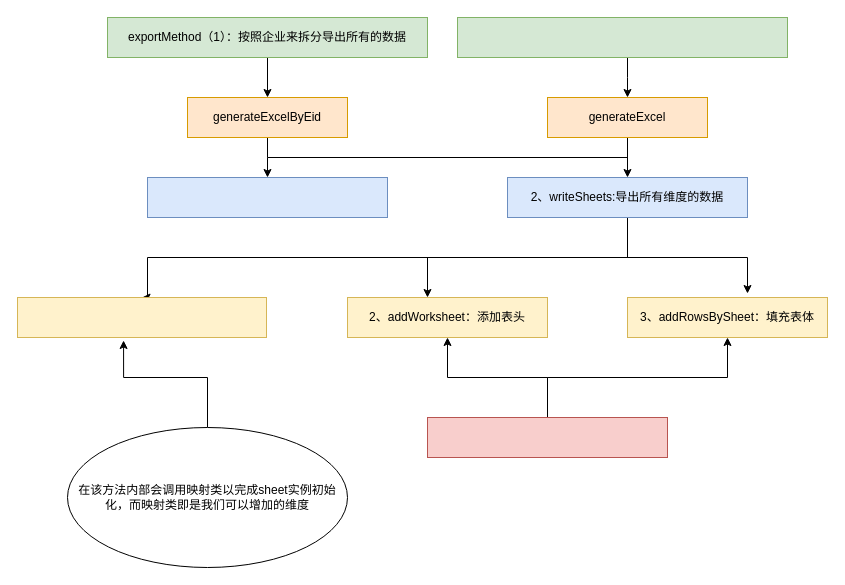
Image size: 845x585. Some labels were removed from this diagram. The centre of each missing label's shape, as x and y in pixels:
1、getSheetInstances：获取sheet实例: the point at 141,317
1、getWorkBookTemplate:获取exce模板: the point at 267,197
exportMethod（0）：一个excel导出所有维度的数据: the point at 622,37
TemplateDataProvider.js: the point at 547,437
